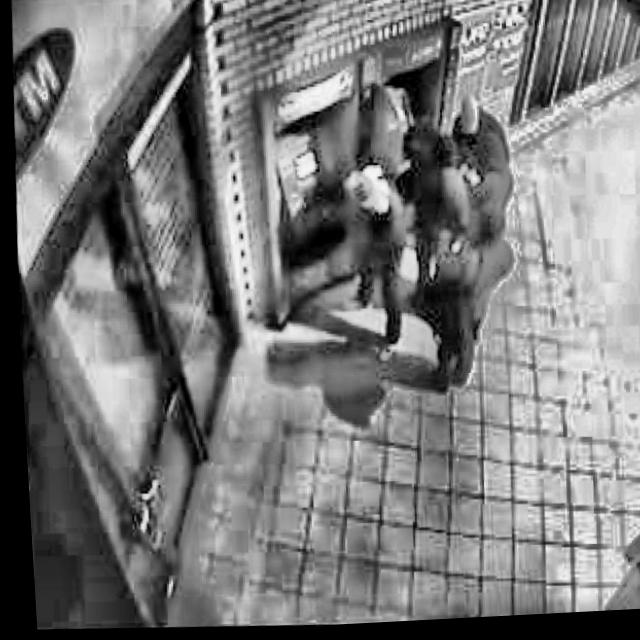burglary: (256, 67, 528, 411)
